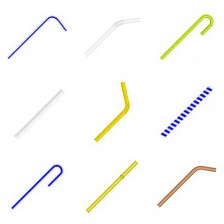drinking_straw: (80, 157, 141, 217), (155, 82, 216, 141), (9, 83, 69, 142), (154, 9, 218, 64), (2, 12, 71, 63), (152, 160, 220, 210), (88, 77, 134, 145), (7, 160, 67, 212), (81, 13, 145, 60)
